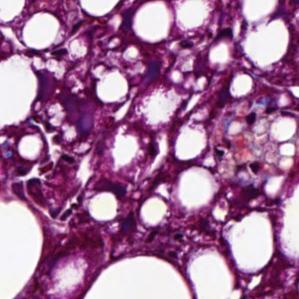inflammation: (230, 159, 269, 211), (8, 163, 60, 202)
